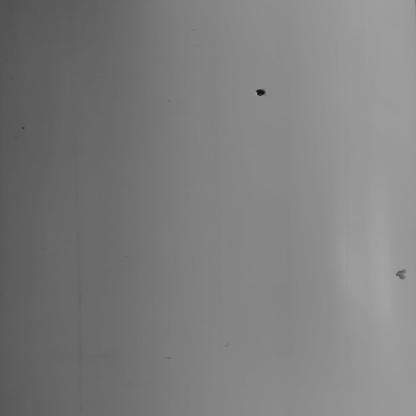kongdong: (248, 77, 288, 105), (392, 263, 407, 297)
